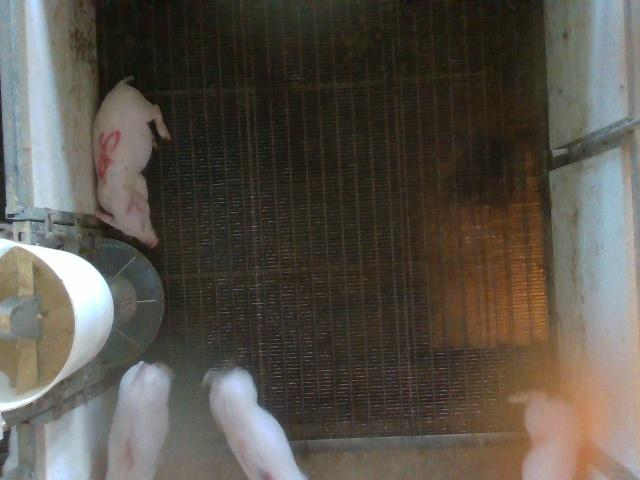pig-1: (109, 361, 174, 478)
pig-3: (205, 369, 308, 479)
pig-5: (92, 76, 170, 247)
